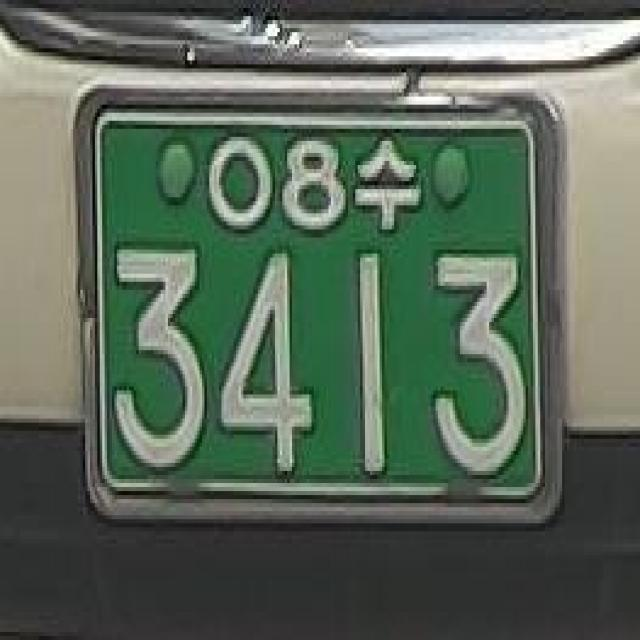illegal_plate: (62, 71, 570, 550)
